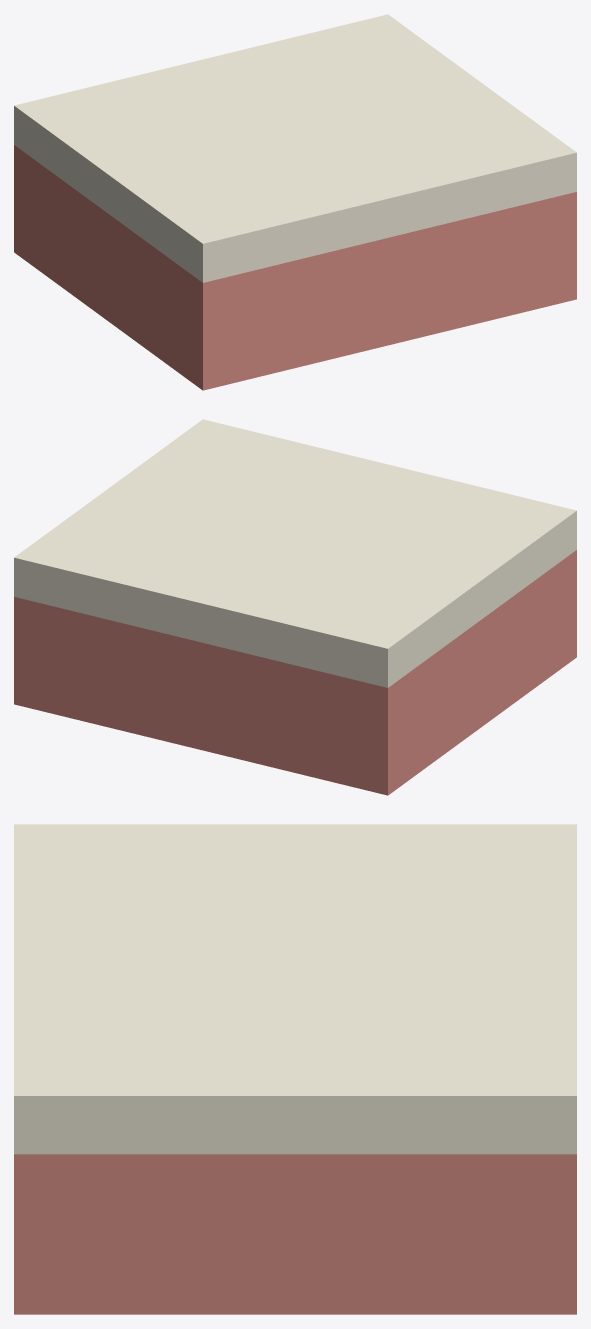
File: pacote.fbx
3 views of the same model, one above another, from view 1: azimuth 30°, elevation 25°; view 2: azimuth 150°, elevation 25°; view 3: azimuth 270°, elevation 25° (orthographic). The views are drawn at different scales.
Parts seen in each view (by area): view 1: pacote; view 2: pacote; view 3: pacote.
Part boxes in pixels (bbox=[...]): pacote: bbox=[14, 14, 576, 390]; pacote: bbox=[14, 419, 576, 795]; pacote: bbox=[14, 824, 576, 1314].
Bounding box in the file's own units: 40 × 15 × 35.
